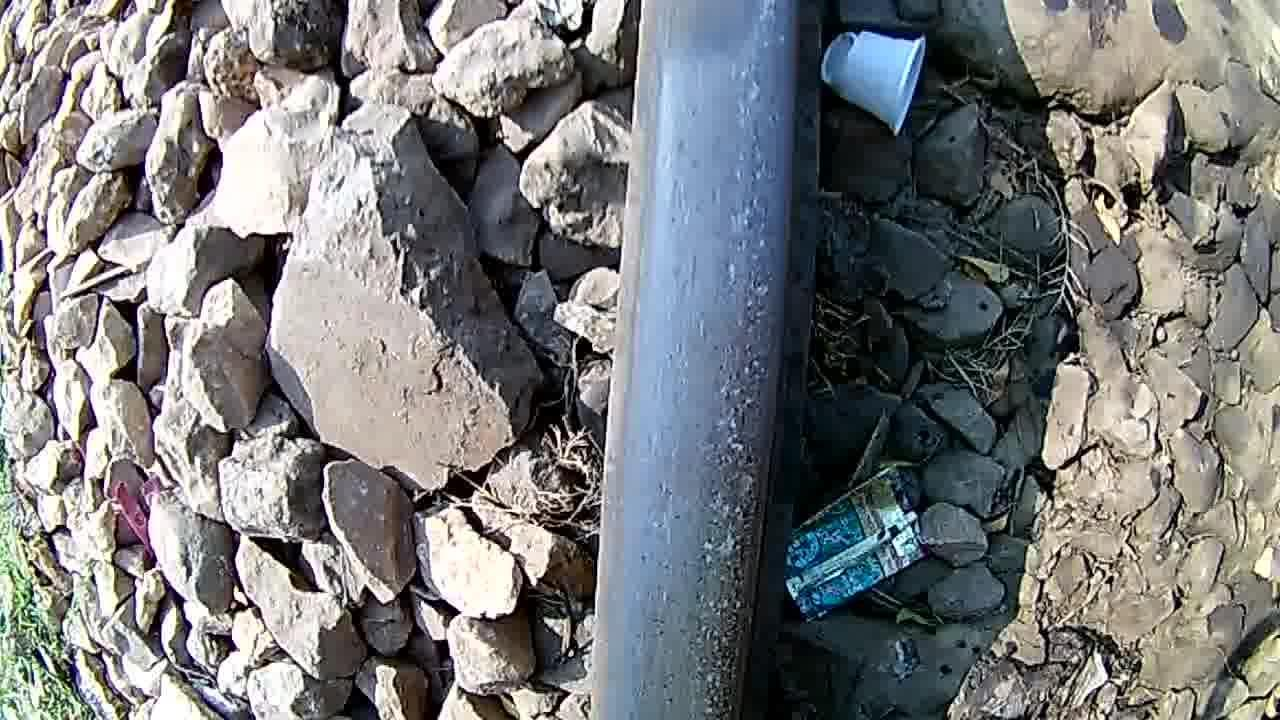crack: (608, 0, 792, 205)
